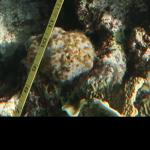dead: (2, 2, 145, 113)
